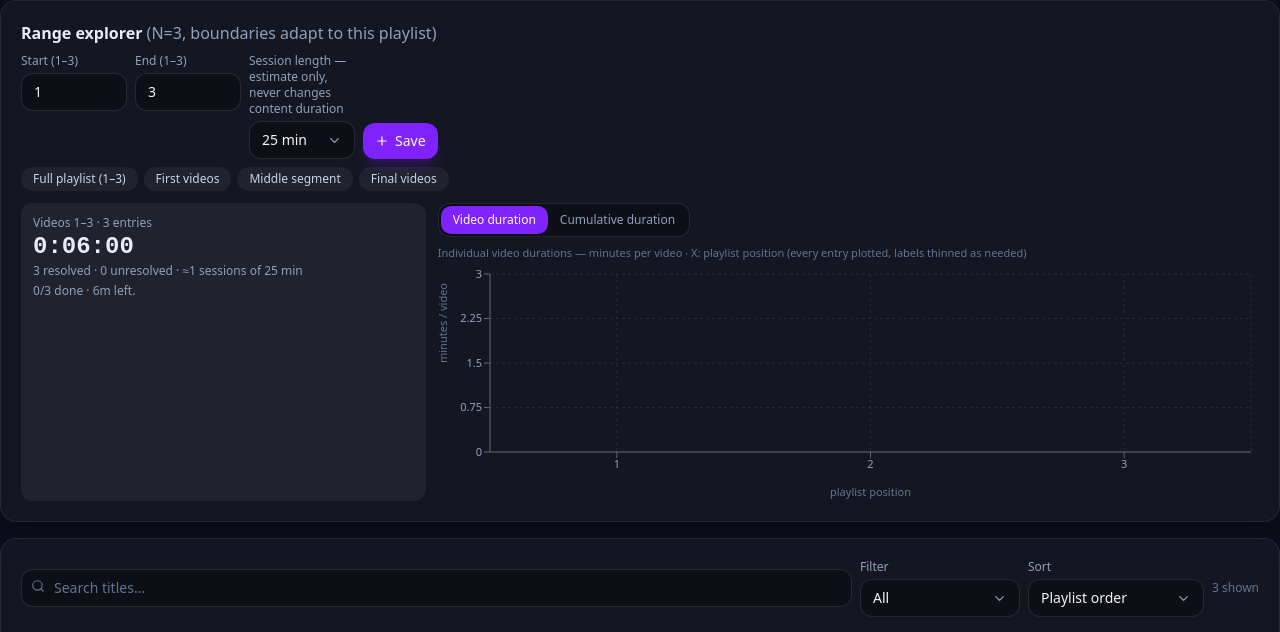
library range controls (seeded playlist N=3) › totals the default range, recalculates on input, and rejects out-of-range ends
This screenshot has width=1280, height=632.
Check: the text "0:06:00" is shown, box [33,233,134,260]
Replace the text in the field labelled "Start (1–3)" with "2" at (74, 92), box [21,73,127,111]
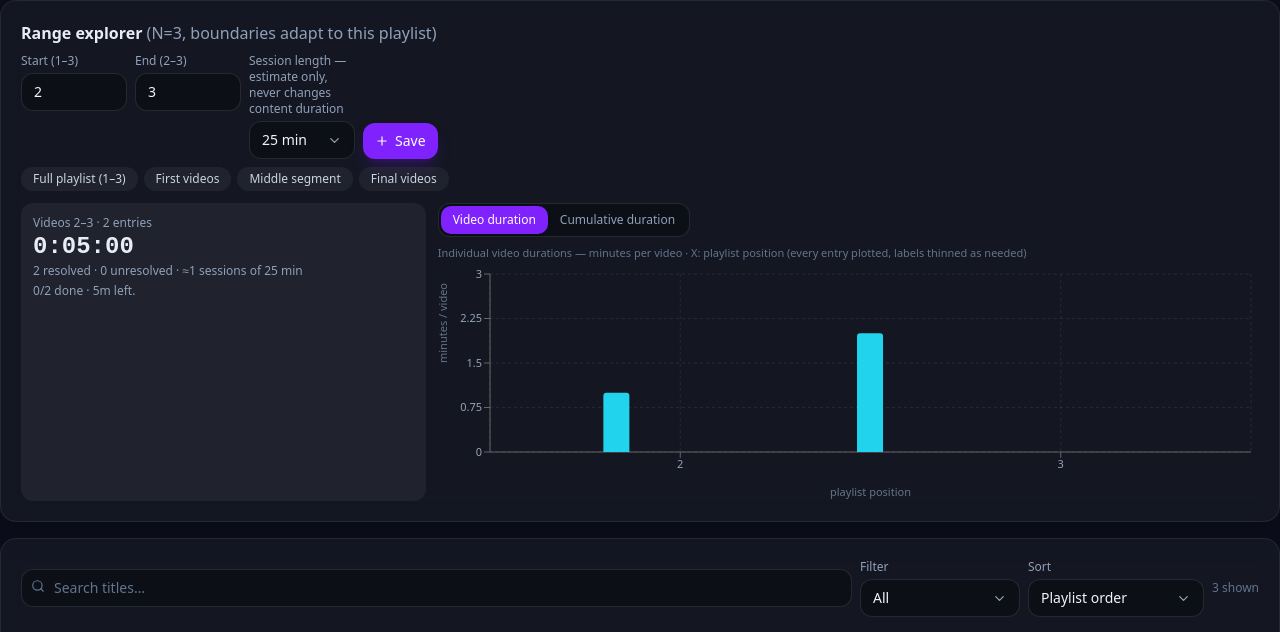
Check: the text "0:05:00" is shown, box [33,233,134,260]
Replace the text in the field labelled "End (2–3)" with "99" at (188, 92), box [135,73,241,111]
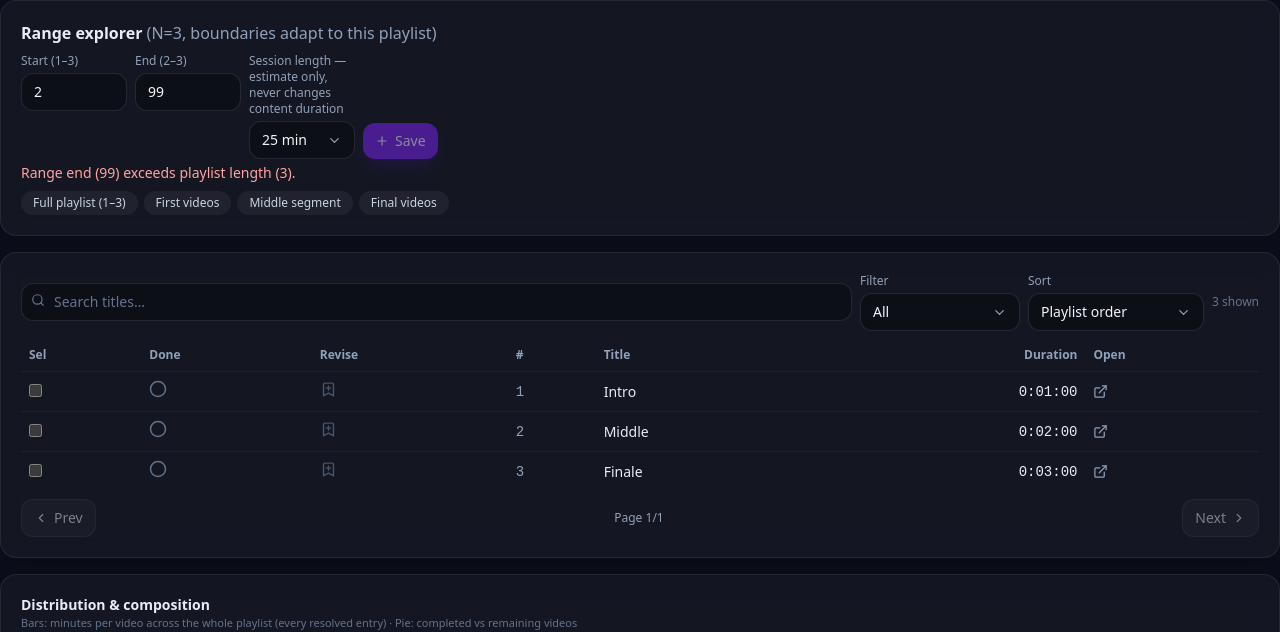
Check: the text "Range end (99) exceeds playlist length (3)." is shown, box [21,163,296,182]
